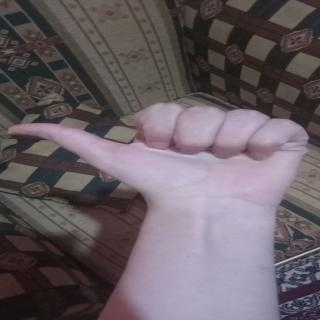DAD: (3, 97, 320, 197)
